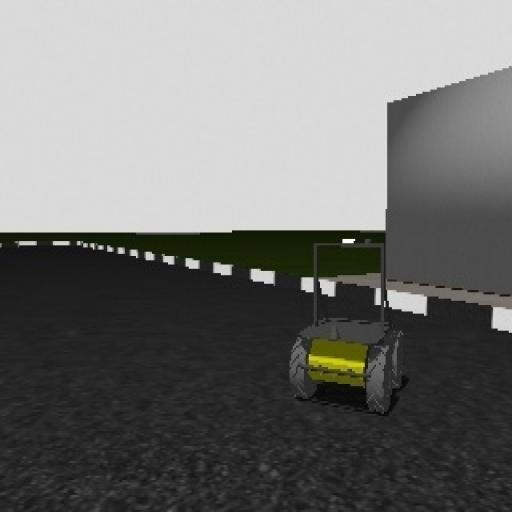huskya200: (285, 230, 415, 424)
